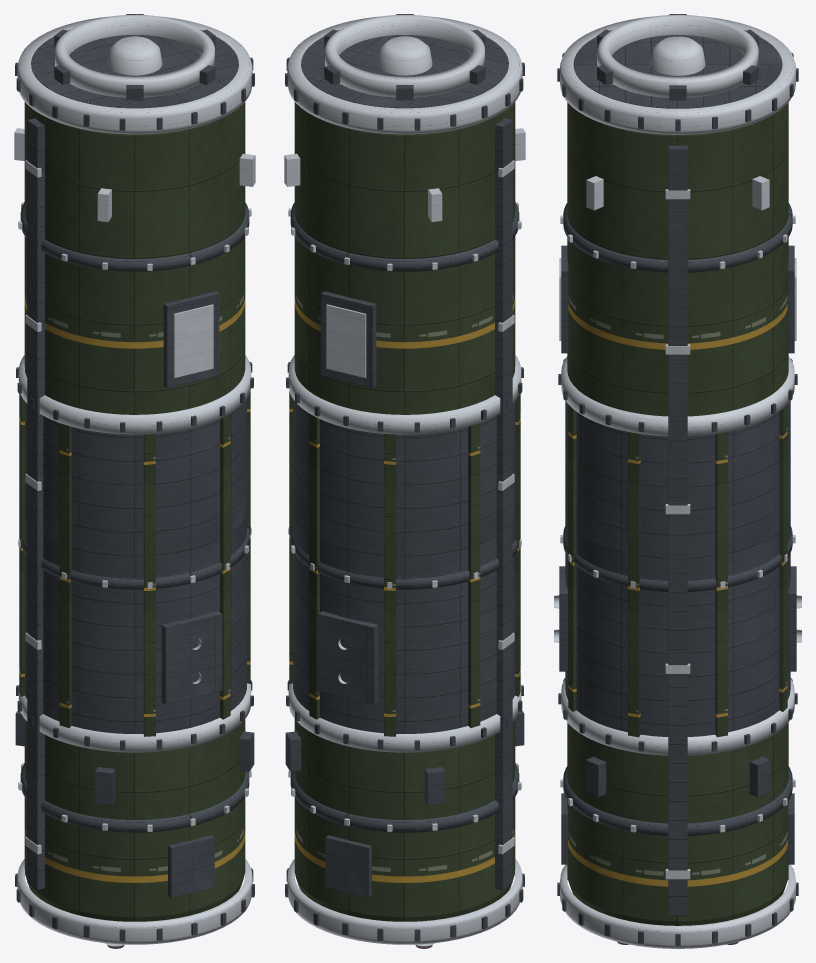
The model's file is heavy_icbm_central_body.glb.
3 renders of one model, left to right at view 1: azimuth 30°, elevation 25°; view 2: azimuth 150°, elevation 25°; view 3: azimuth 270°, elevation 25°, orthographic.
Parts seen in each view (by area): view 1: Light_ICBM_Missile; view 2: Light_ICBM_Missile; view 3: Light_ICBM_Missile.
Boxes of the visible parts, box(x1,y1,x2,y2) form: Light_ICBM_Missile: box(14, 14, 255, 948); Light_ICBM_Missile: box(284, 14, 525, 948); Light_ICBM_Missile: box(554, 14, 801, 948).
Size of the model in its own units: 0.96 by 3.84 by 0.984.
Materials: 4 (4 with a texture image).
